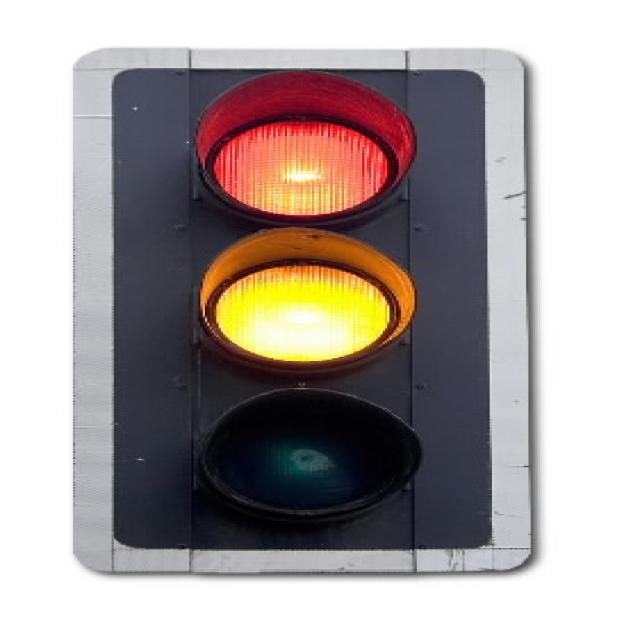red: (199, 84, 411, 219)
